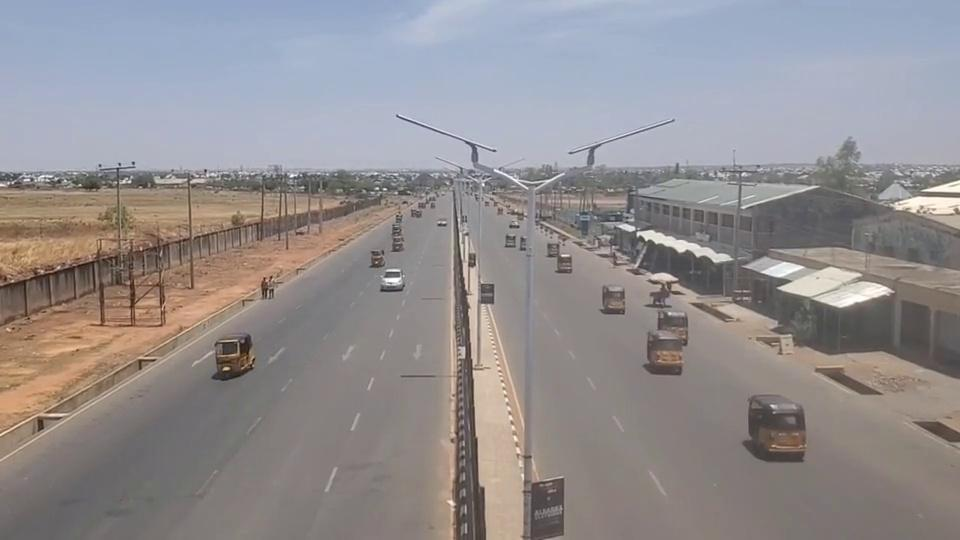keke: (746, 393, 806, 459), (213, 332, 255, 378), (646, 329, 683, 373)
